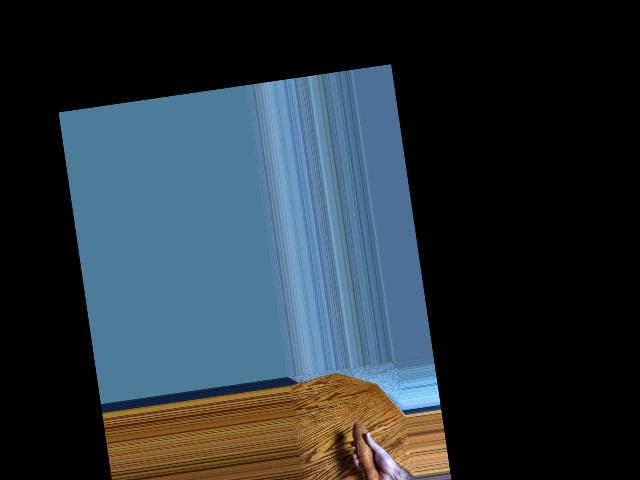sweet_potato: (350, 416, 385, 480)
